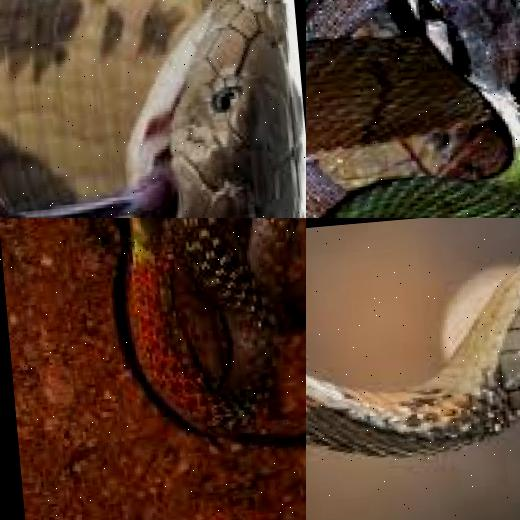snake: (0, 0, 306, 218), (306, 237, 520, 509), (306, 0, 520, 218), (108, 218, 306, 447)
